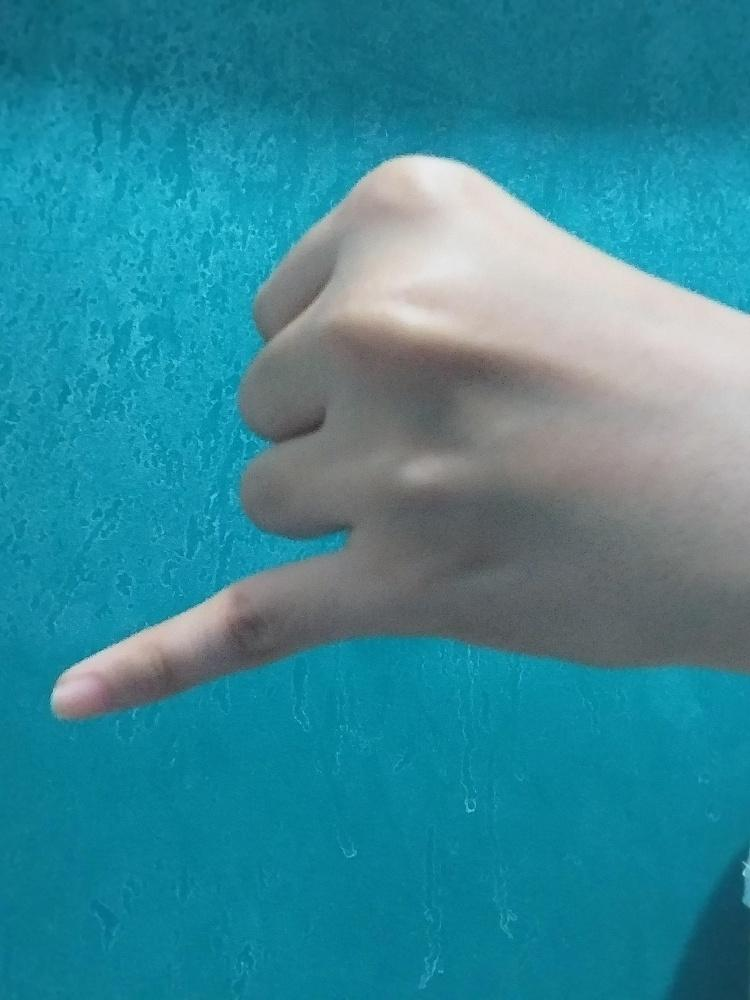j: (43, 146, 688, 725)
